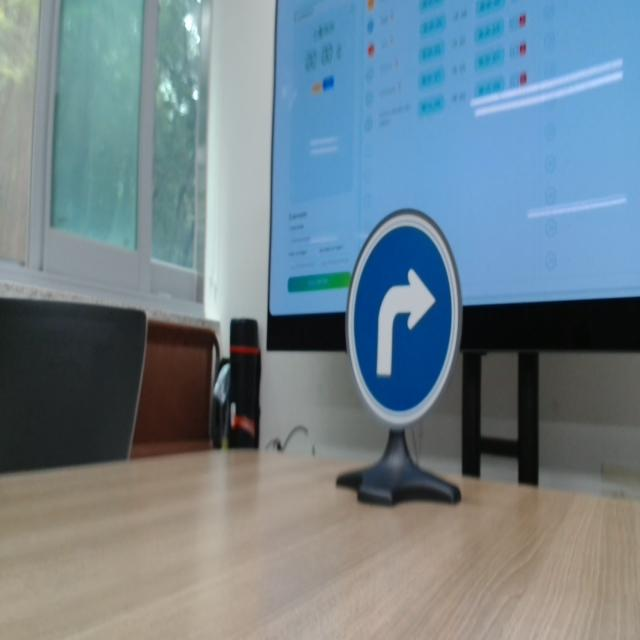right_dierection: (344, 204, 470, 454)
